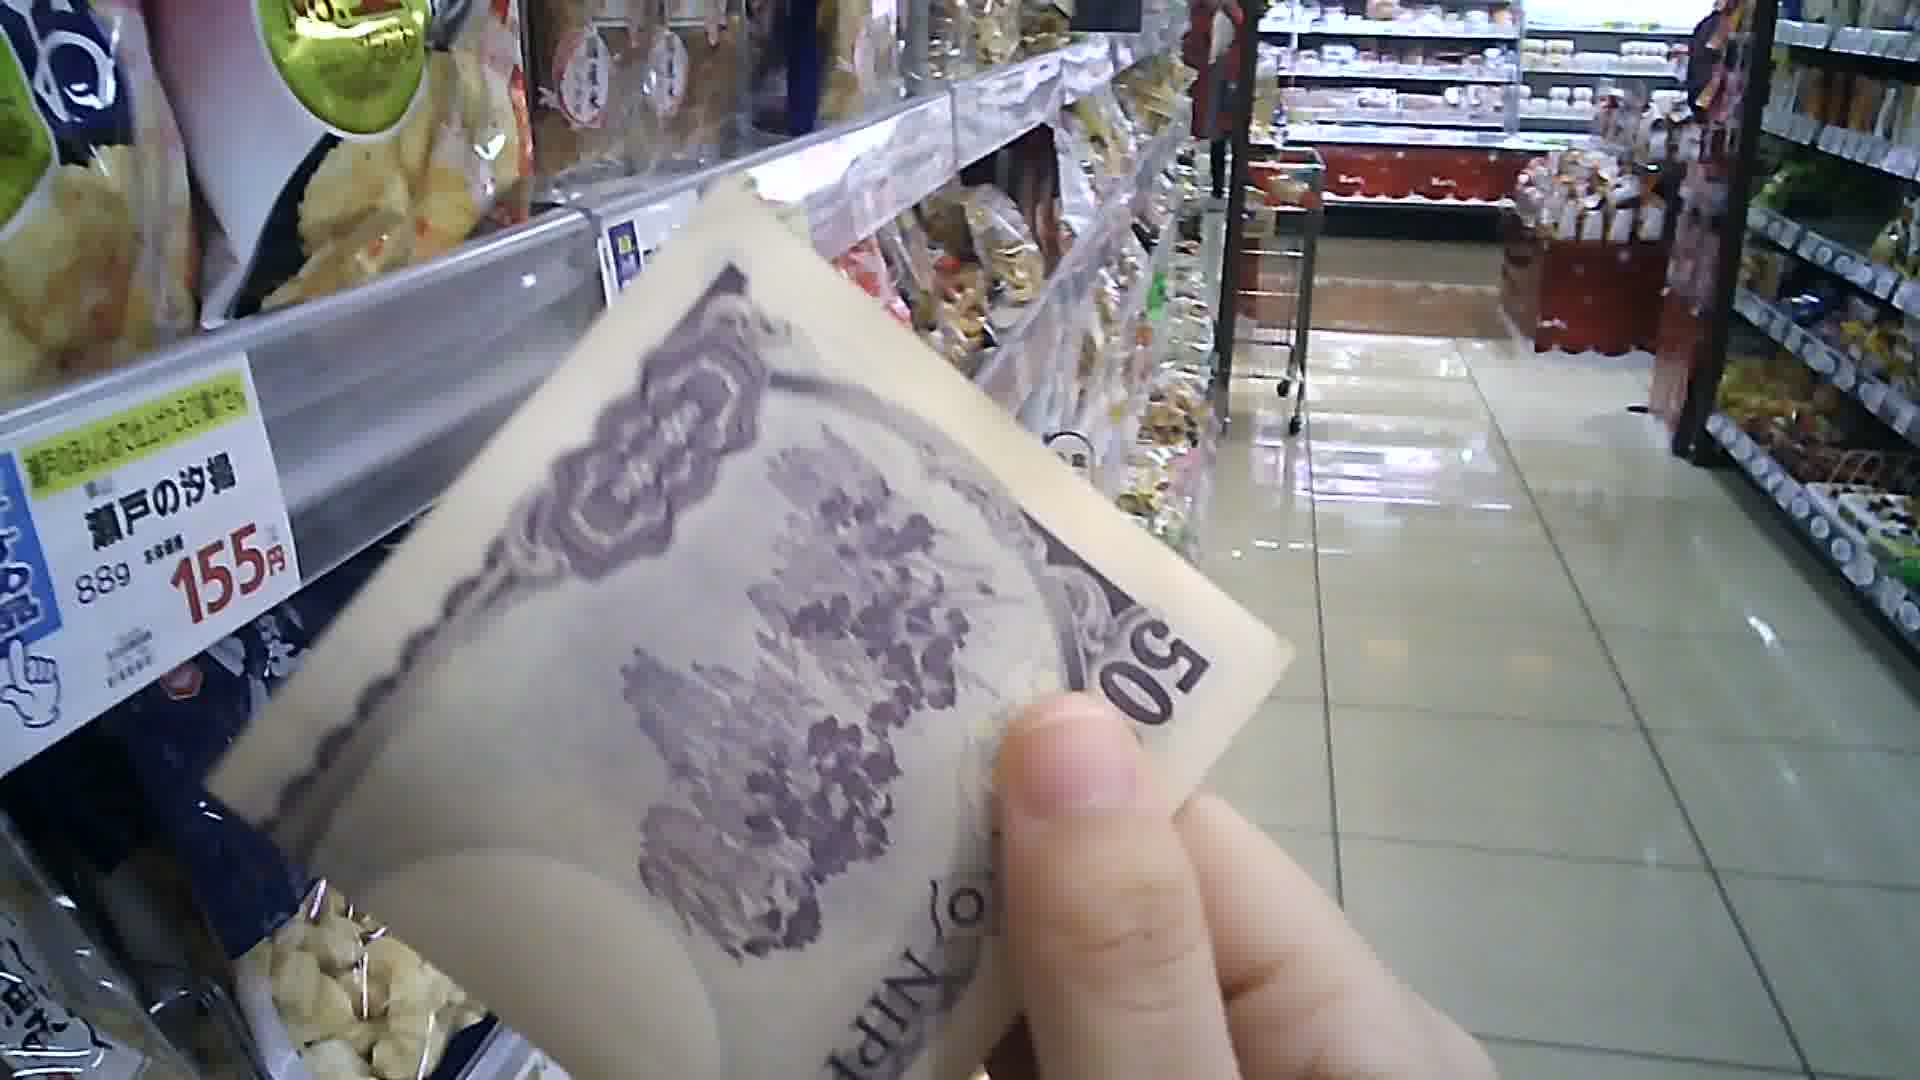5,000 Yen: (179, 194, 1273, 1079)
